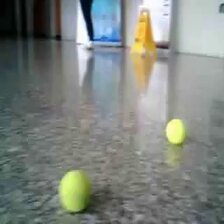tennis: (61, 171, 90, 212), (165, 118, 186, 144)
